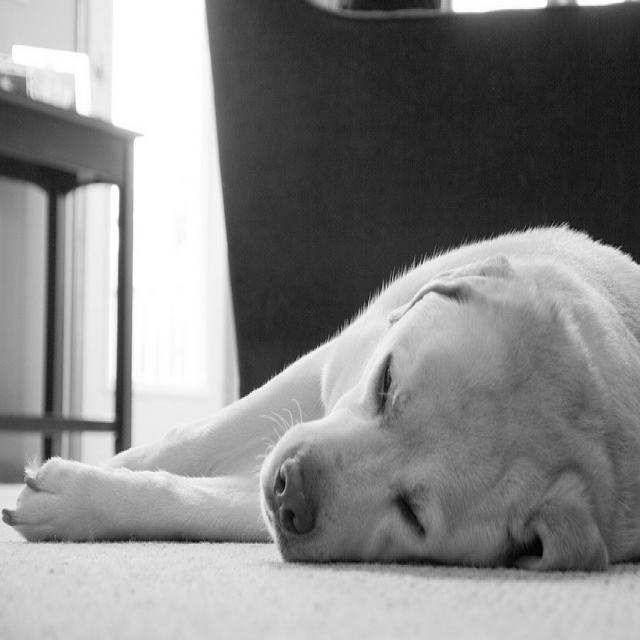dog: (1, 223, 638, 568)
